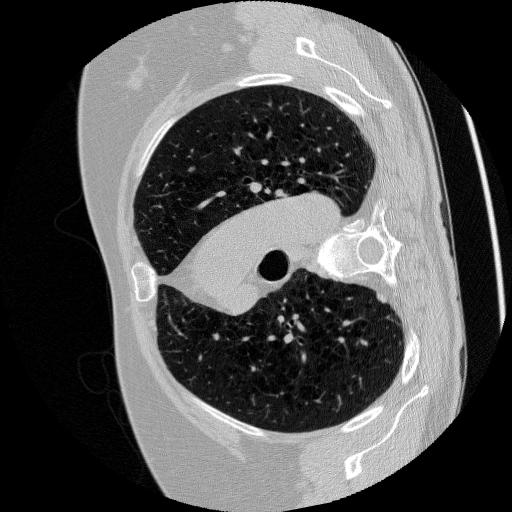nodule: (372, 291, 390, 309)
